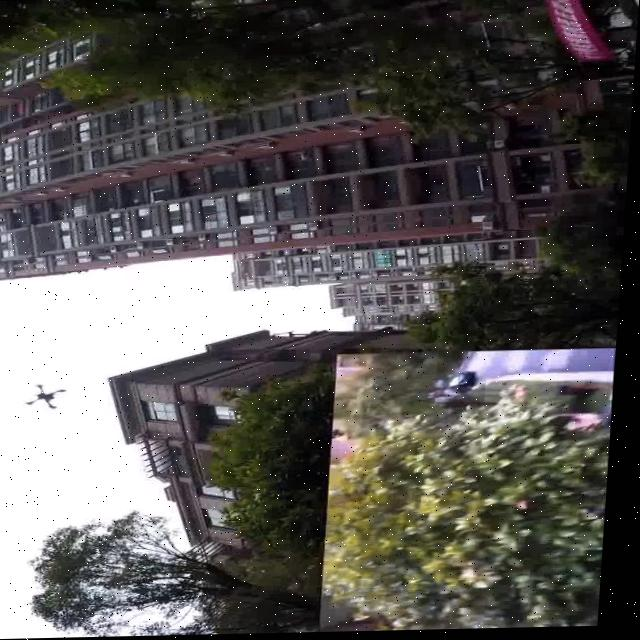drone: (6, 373, 76, 413)
